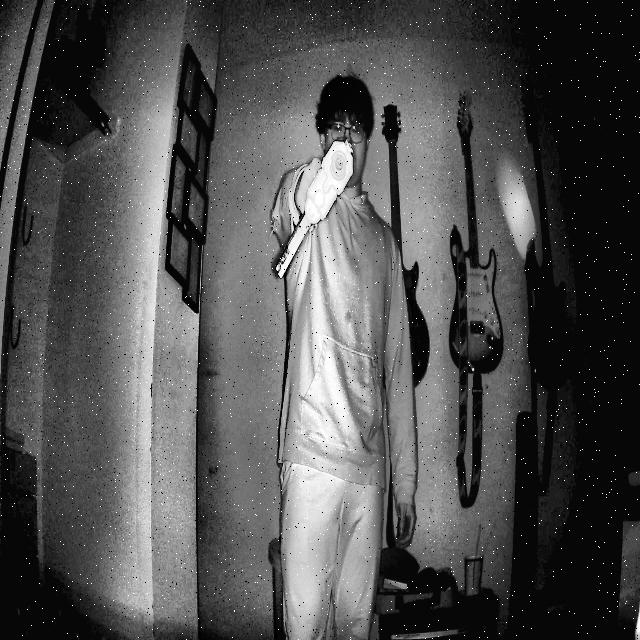Nerf_Blaster: (265, 118, 360, 293)
